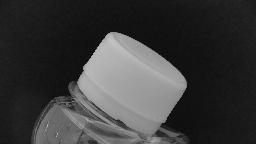Broken Cap: (64, 18, 192, 144)
